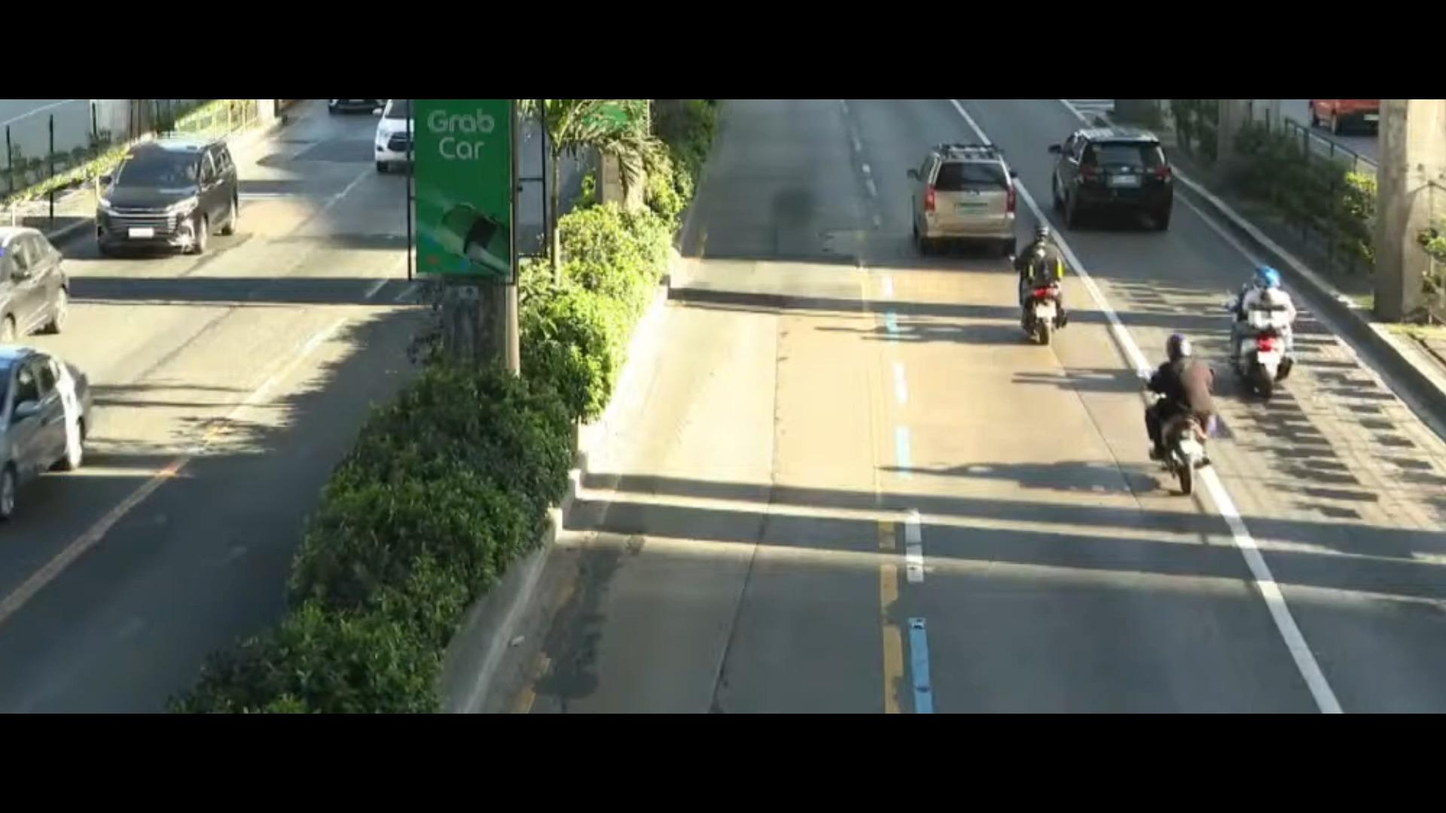Motorcycle: (1132, 330, 1245, 502), (1204, 256, 1337, 384), (981, 211, 1076, 374)
SUV: (88, 138, 260, 258), (1048, 110, 1188, 229), (908, 121, 1025, 252)
Sedan: (0, 352, 111, 511), (0, 217, 64, 342)
